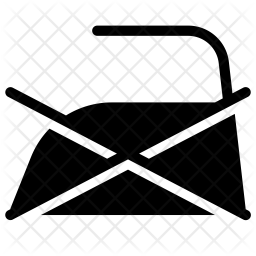do_not_bleach: (7, 21, 189, 181)
